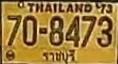0: (22, 15, 36, 45)
3: (96, 15, 112, 46)
4: (65, 15, 79, 46)
7: (81, 16, 96, 46), (7, 14, 21, 45)
8: (49, 15, 63, 45)
RBR: (41, 48, 77, 64)
